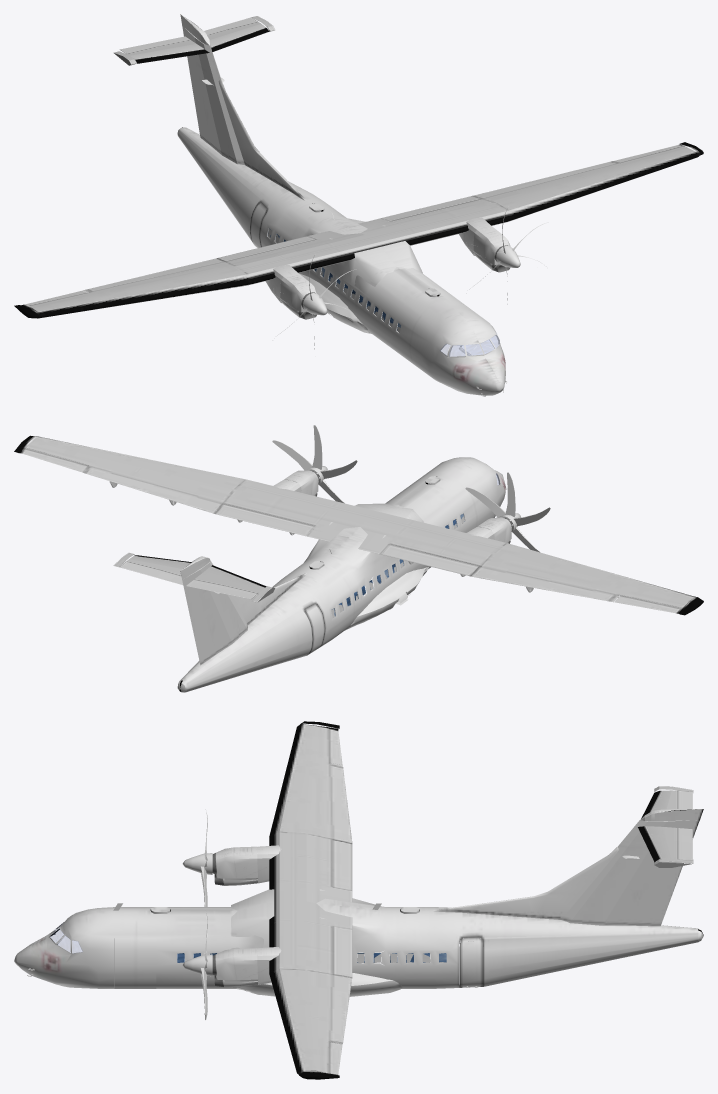
File: atr42.glb
The picture shows the model from 3 angles, top to bottom: view 1: azimuth 30°, elevation 25°; view 2: azimuth 150°, elevation 25°; view 3: azimuth 270°, elevation 25°; orthographic projection. The views are drawn at different scales.
Parts seen in each view (by area): view 1: Misc.028, W05.207, fuselage.007, PropHold2; view 2: Misc.028, W05.207, fuselage.007, Prop2, Prop1; view 3: Misc.028, W05.207, fuselage.007, PropHold2.
Boxes of the visible parts, x1,y1,x2,y2 form: Misc.028: [177, 14, 510, 396]; W05.207: [21, 144, 698, 318]; fuselage.007: [14, 16, 703, 332]; PropHold2: [220, 77, 520, 392]; Misc.028: [177, 457, 512, 692]; W05.207: [20, 436, 695, 613]; fuselage.007: [14, 435, 703, 617]; Prop2: [465, 472, 550, 552]; Prop1: [272, 425, 357, 503]; Misc.028: [14, 809, 703, 996]; W05.207: [269, 724, 352, 1074]; fuselage.007: [297, 721, 693, 1079]; PropHold2: [27, 853, 639, 976].
Size of the model in its own units: 27.69 by 6.59 by 22.77.
5 materials, 4 textured.
